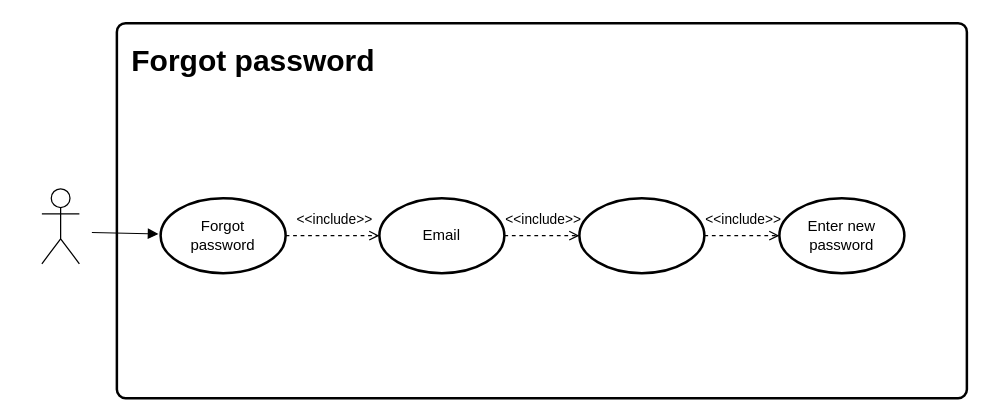
Image size: 990x420. Some labels were removed from this diagram. The centre of each missing label's shape, as x and y in pixels:
"Anonymous" goes at [60,226].
"Enter code" goes at [641,235].
